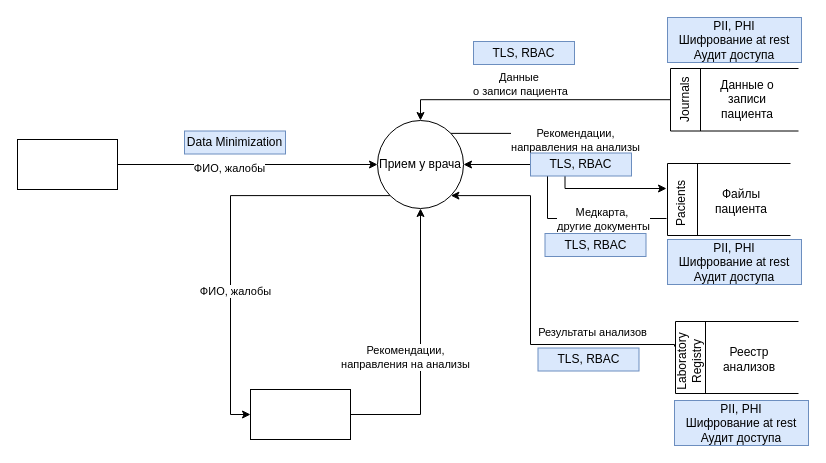
The diagram is 826 pixels wide and 463 high, and some of its shapes have lost their labels. The centre of each missing label's shape, as x and y in pixels:
"Врач" goes at pixel 300 414.
"Пациент" goes at pixel 67 164.
